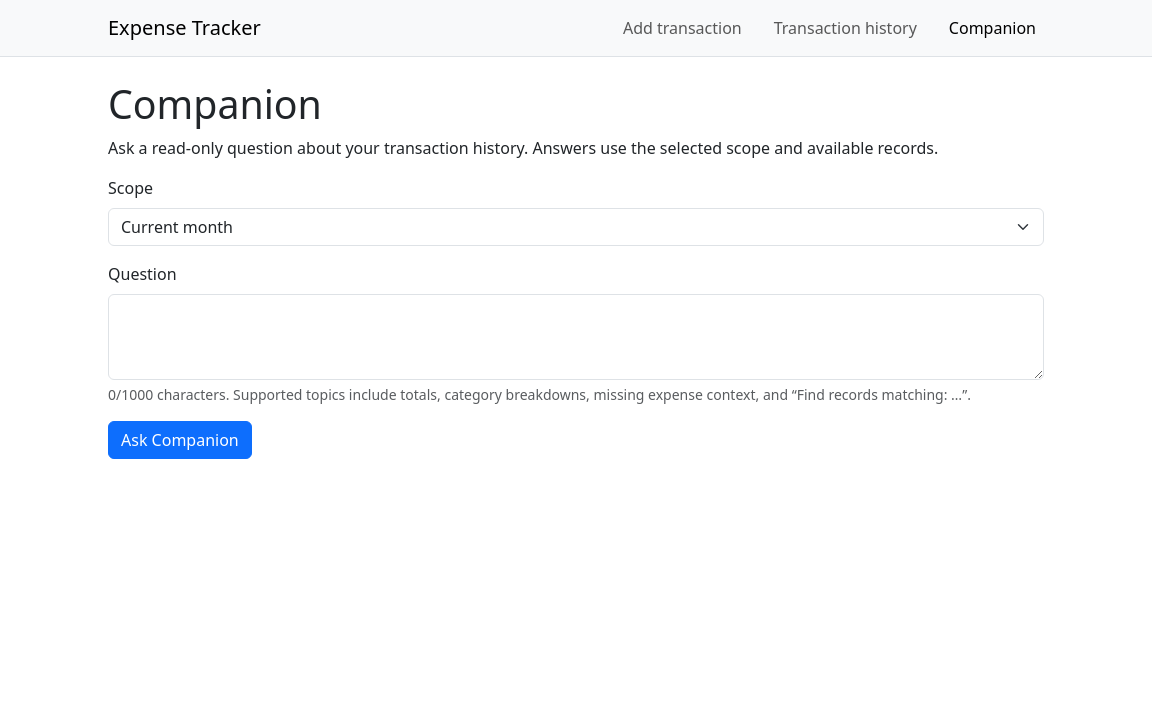
Scenario: CompanionPage › preserves the question and existing response after a failure, then remains usable
Type "How much did I spend?" into the text box labelled "Question". click: (576, 337)
box: [108,294,1044,380]
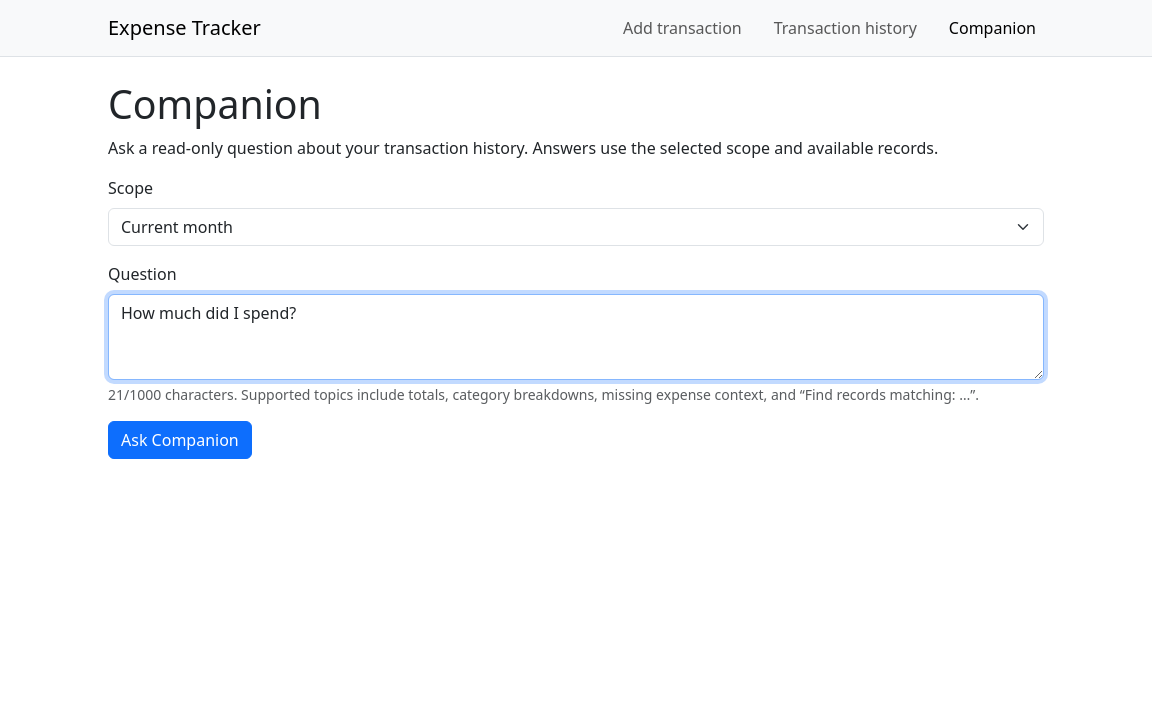
Click the button "Ask Companion". click: click(180, 440)
box: [108,421,252,459]
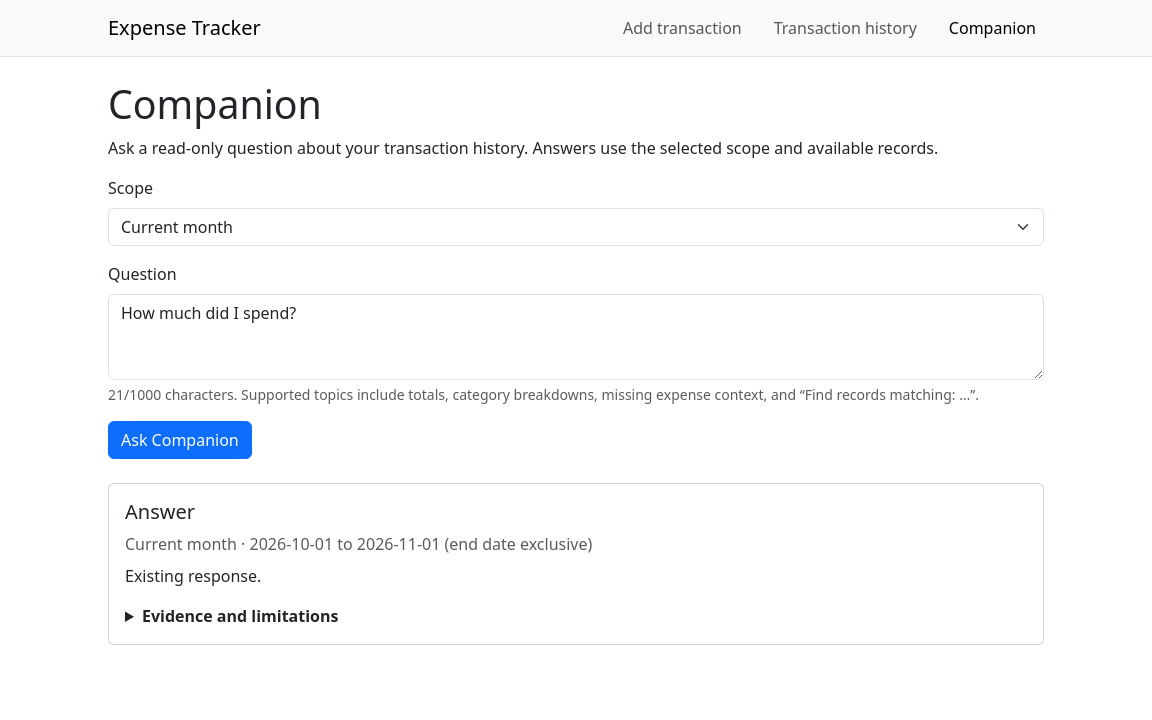
Expected: the text "Existing response." is shown, [125,565,261,587]
Click the button "Ask Companion". click: click(180, 440)
box: [108,421,252,459]
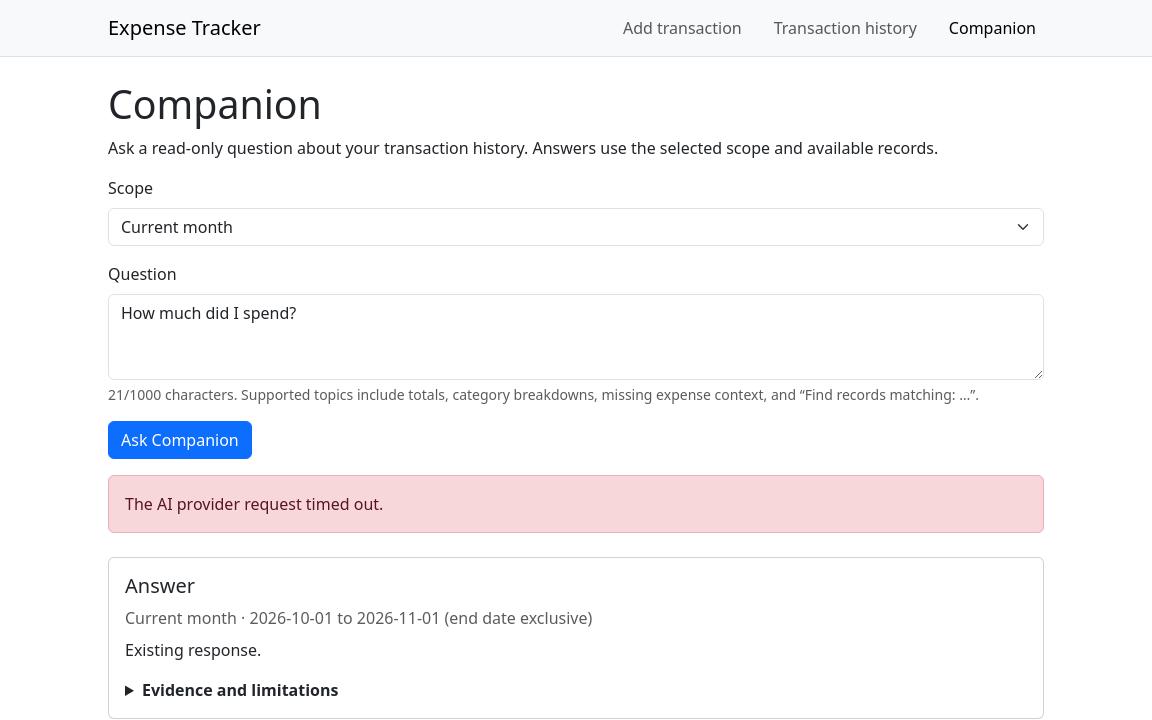
Expected: the text "Existing response." is shown, [125,639,261,661]
Expected: the message reads "The AI provider request timed out.", [125,493,383,515]
Click the button "Ask Companion". click: click(180, 440)
box: [108,421,252,459]
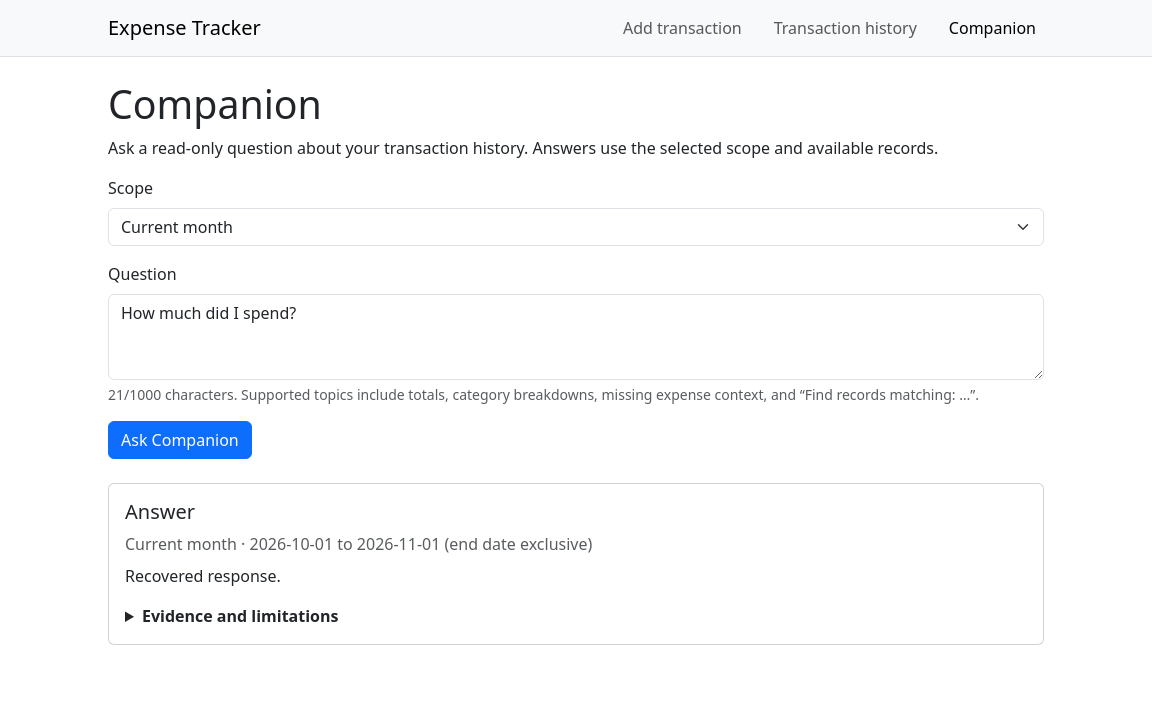
Expected: the text "Recovered response." is shown, [125,565,281,587]
